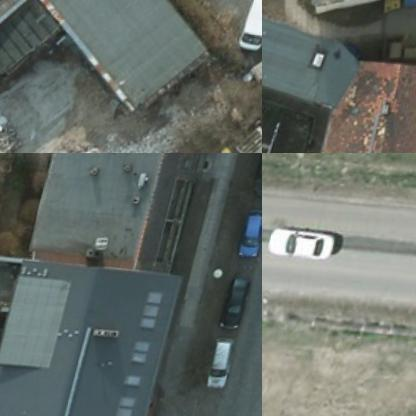car: (268, 222, 338, 266), (221, 280, 258, 336), (209, 341, 246, 396), (238, 205, 261, 265), (238, 0, 261, 59), (251, 153, 261, 202)
